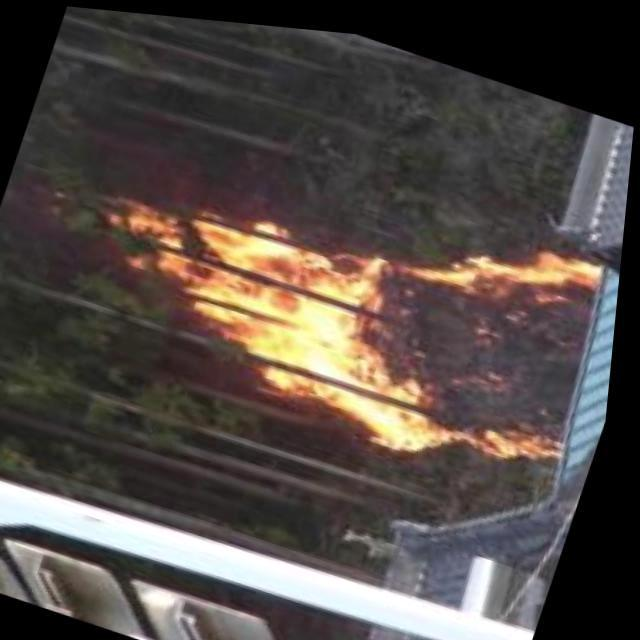fire: (83, 113, 622, 487)
